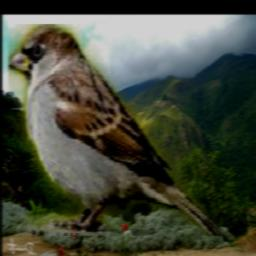Sparrow: (7, 25, 222, 237)
